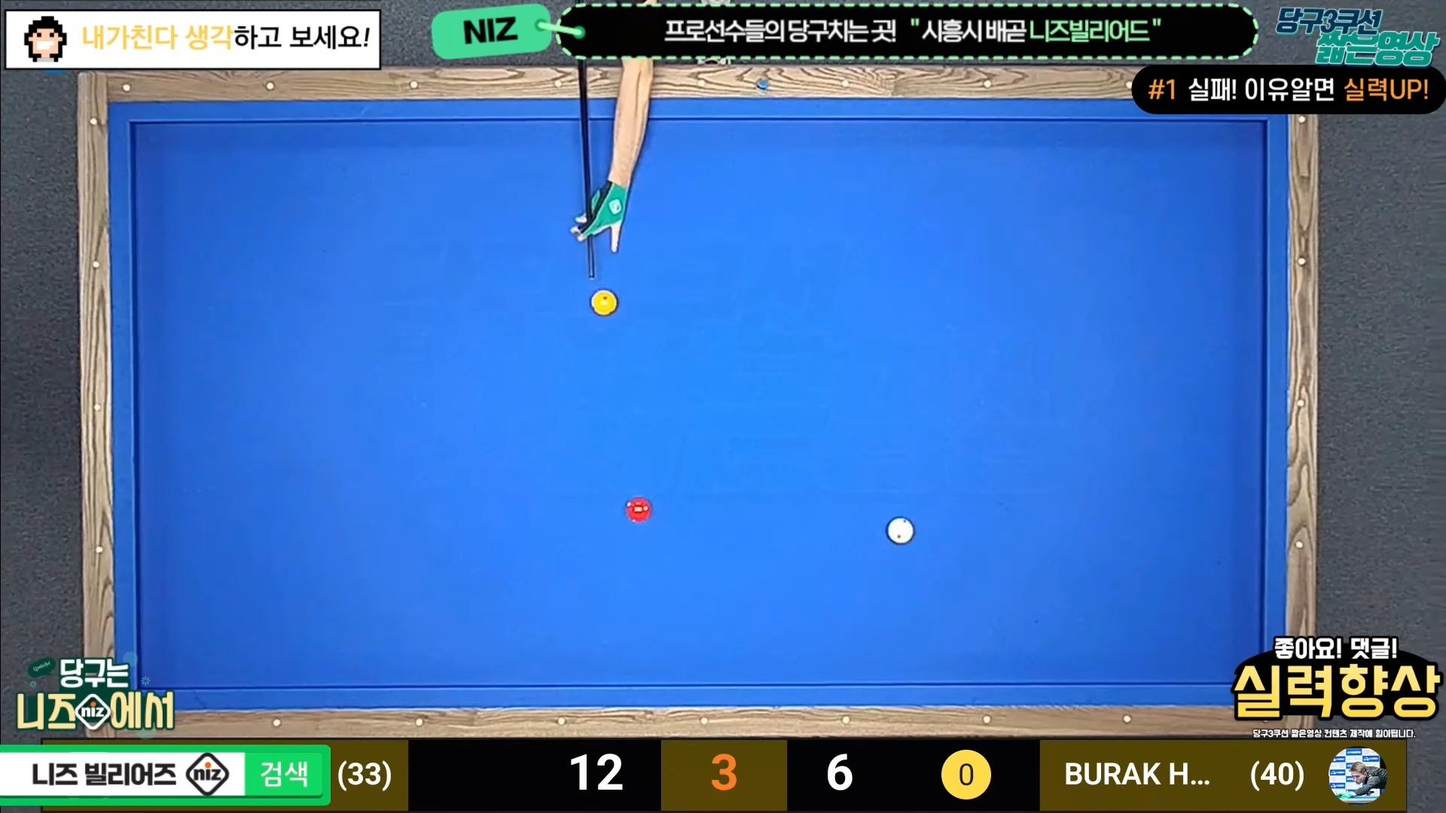billiard-ball-Red: (624, 494, 651, 523)
billiard-ball-Yellow: (589, 288, 618, 317)
billiard-ball-white: (885, 516, 914, 545)
